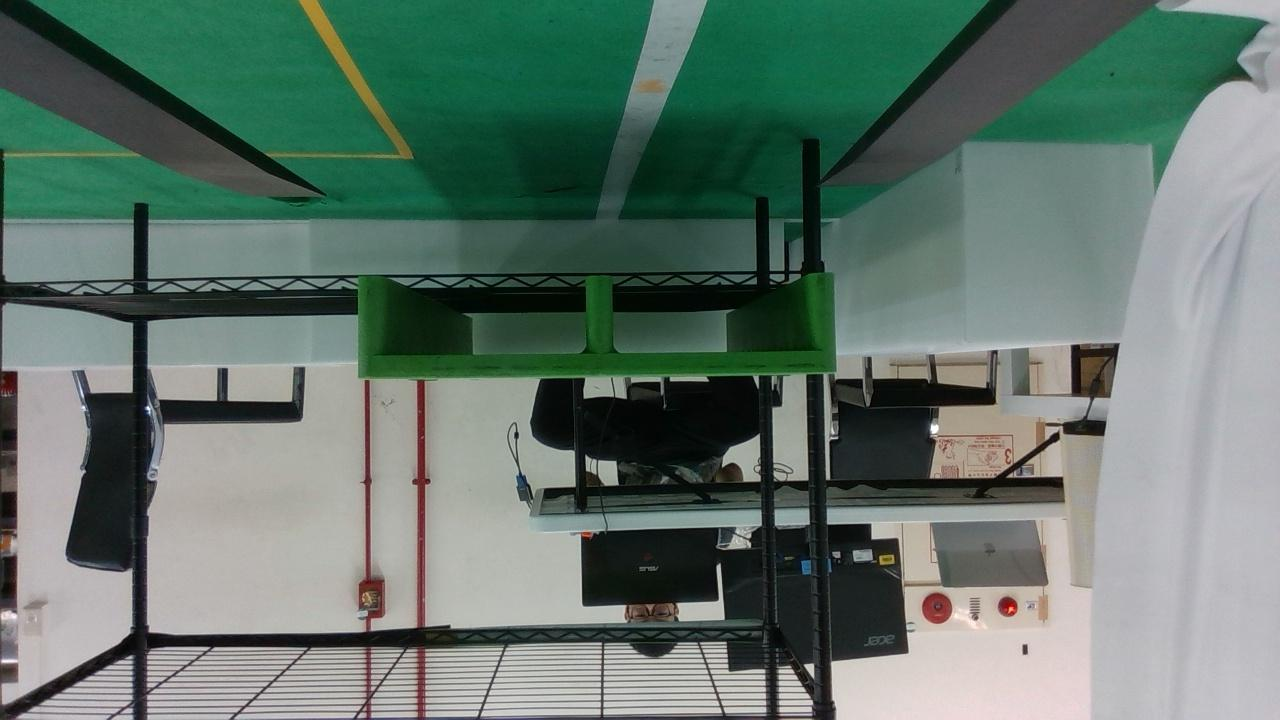Pallet: (357, 272, 838, 379)
